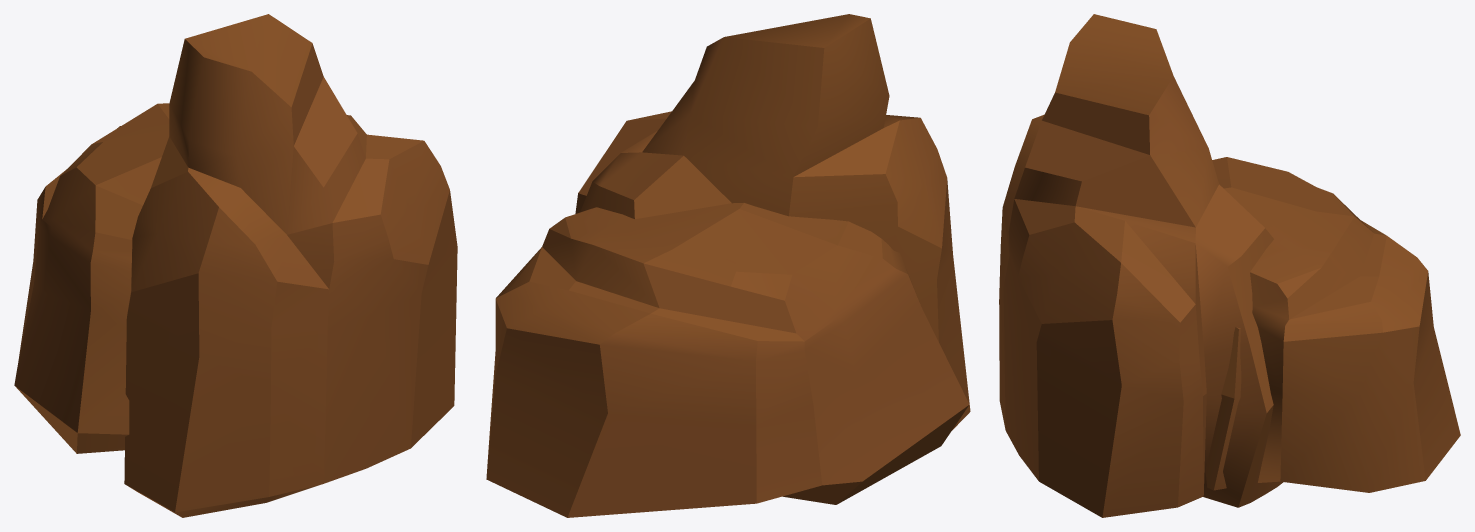
File: rock3_lev2.glb
3 views of the same model, side by side, from view 1: azimuth 30°, elevation 25°; view 2: azimuth 150°, elevation 25°; view 3: azimuth 270°, elevation 25° (orthographic). The views are drawn at different scales.
Parts seen in each view (by area): view 1: Rock_Large_2.002; view 2: Rock_Large_2.002; view 3: Rock_Large_2.002.
Boxes of the visible parts, x1,y1,x2,y2 form: Rock_Large_2.002: [14, 14, 457, 517]; Rock_Large_2.002: [486, 14, 970, 517]; Rock_Large_2.002: [999, 14, 1460, 517].
Size of the model in its own units: 26.42 by 28.26 by 29.53.
Materials: 1 (1 with a texture image).
